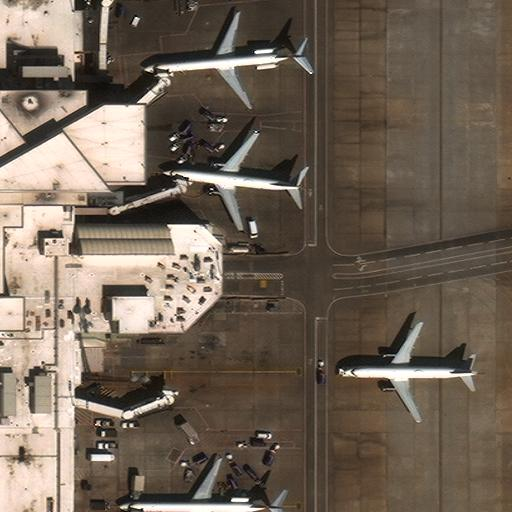Medium Civil Transport: (143, 12, 307, 108), (162, 130, 300, 230), (343, 323, 480, 422), (119, 460, 282, 512)
